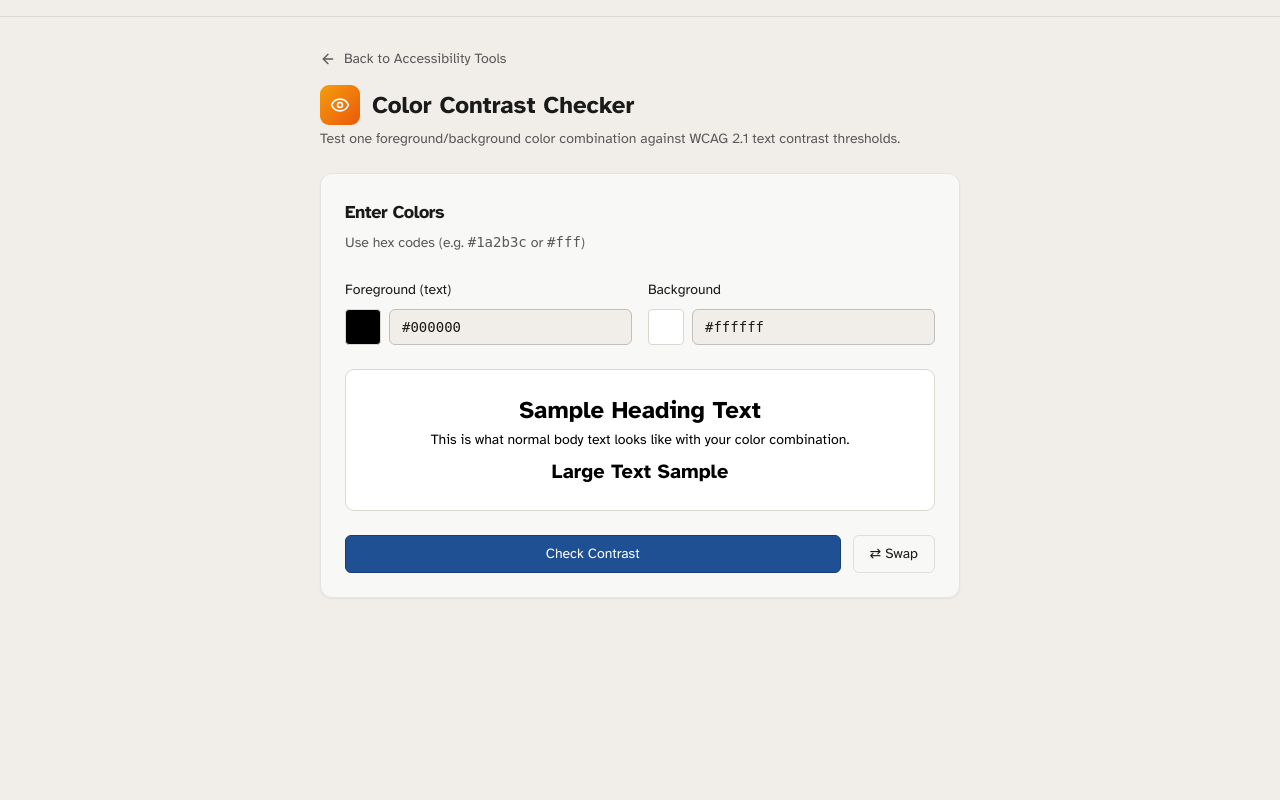
Test: limited-scope accessibility check language › keeps the 'Does Not Meet AA Text Contrast' result specific to the tested criterion
Click the button with test id "button-check-contrast" at (593, 554), box [345, 535, 840, 573]
(page scrolled)
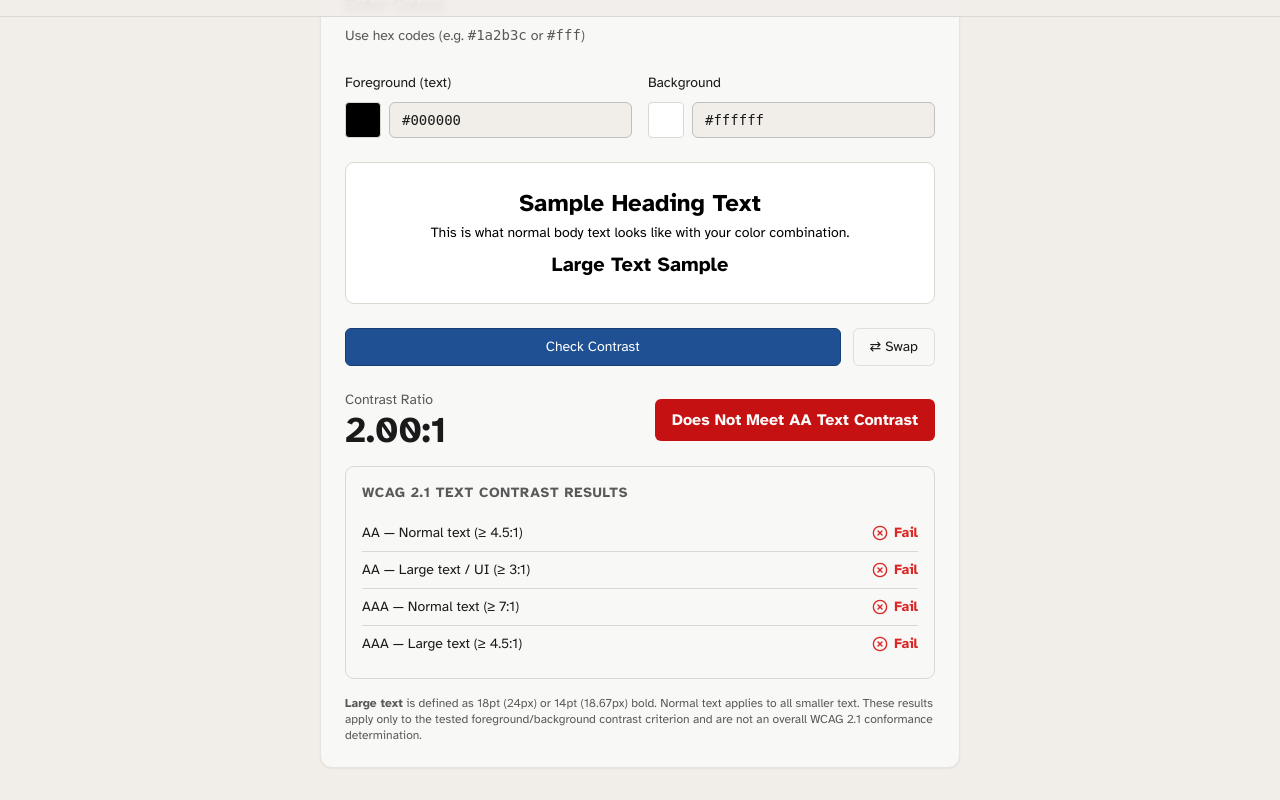
Result: the element with test id "contrast-result" is shown at [345, 390, 935, 743]
Result: the text with test id "badge-contrast-rating" reads "Does Not Meet AA Text Contrast" at [672, 410, 918, 430]
Result: the heading "WCAG 2.1 Text Contrast Results" is shown at [362, 484, 628, 501]
